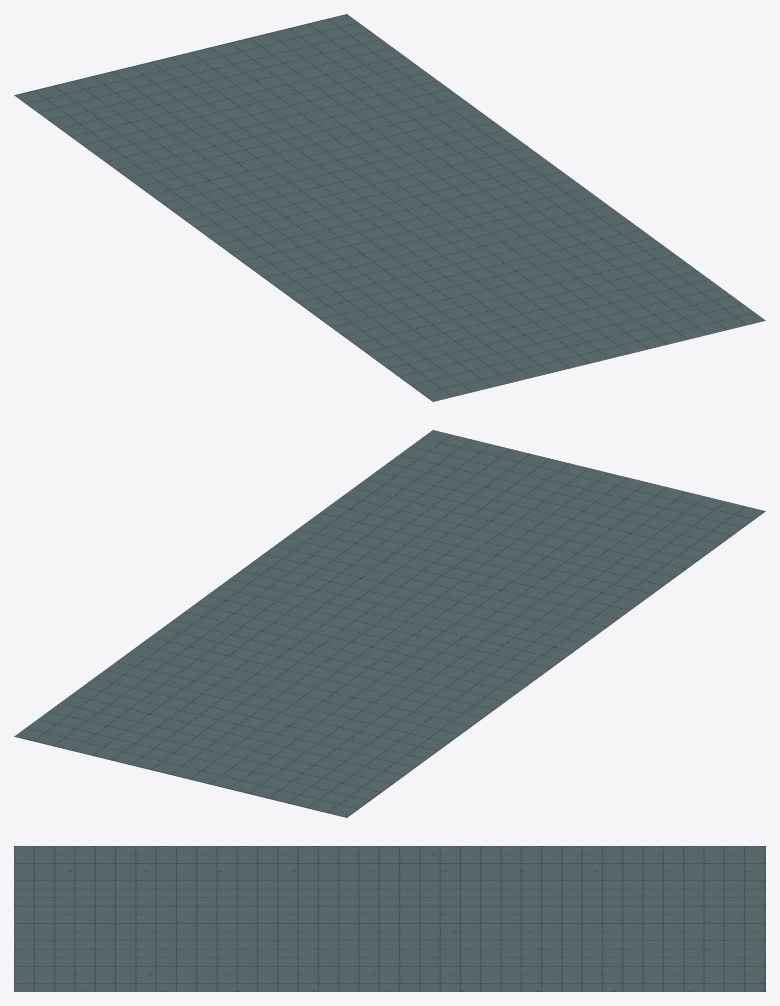
File: Floor.fbx
3 renders of one model, top to bottom at view 1: azimuth 30°, elevation 25°; view 2: azimuth 150°, elevation 25°; view 3: azimuth 270°, elevation 25°, orthographic. The views are drawn at different scales.
Visible parts, largest first — view 1: Floor; view 2: Floor; view 3: Floor.
Boxes of the visible parts, x1,y1,x2,y2 form: Floor: [14, 14, 765, 401]; Floor: [14, 430, 765, 817]; Floor: [14, 846, 765, 991].
Size of the model in its own units: 7.8 by 0 by 17.
Materials: 1 (1 with a texture image).
